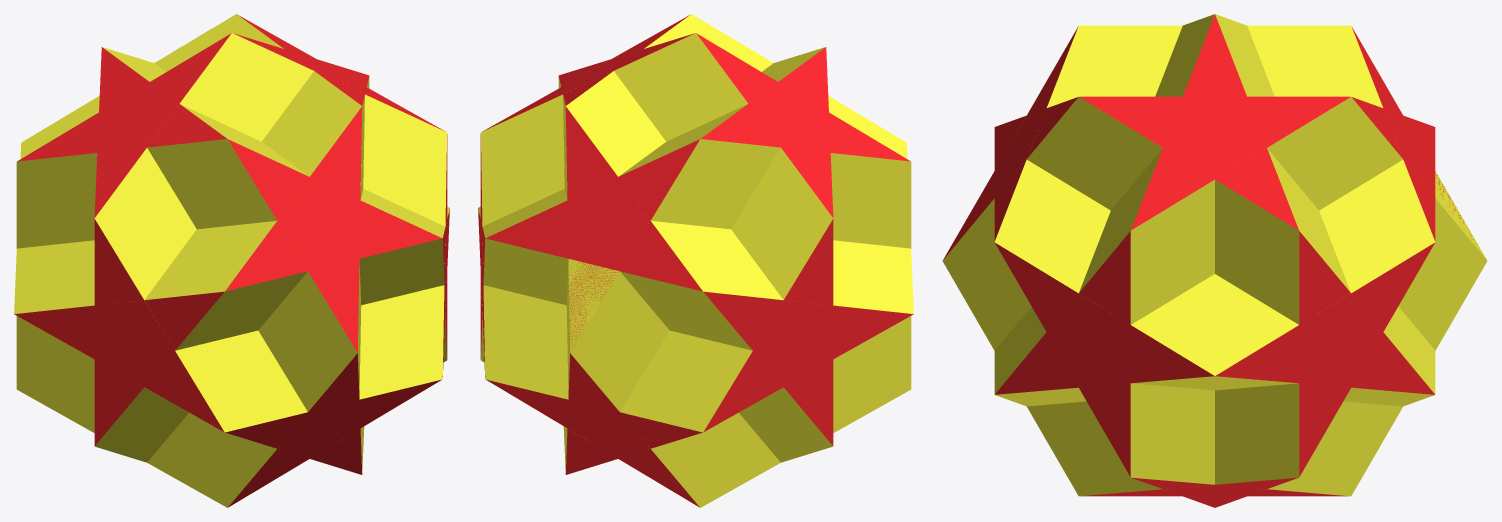
3 renders of one model, left to right at view 1: azimuth 30°, elevation 25°; view 2: azimuth 150°, elevation 25°; view 3: azimuth 270°, elevation 25°, orthographic. The views are drawn at different scales.
Parts seen in each view (by area): view 1: Dodecadodecahedron.001; view 2: Dodecadodecahedron.001; view 3: Dodecadodecahedron.001.
Part boxes in pixels (left/top/right/bottom): Dodecadodecahedron.001: left=14, top=14, right=449, bottom=507; Dodecadodecahedron.001: left=478, top=14, right=913, bottom=507; Dodecadodecahedron.001: left=942, top=14, right=1487, bottom=507.
Size of the model in its own units: 80 by 80 by 80.
2 materials, 2 textured.
